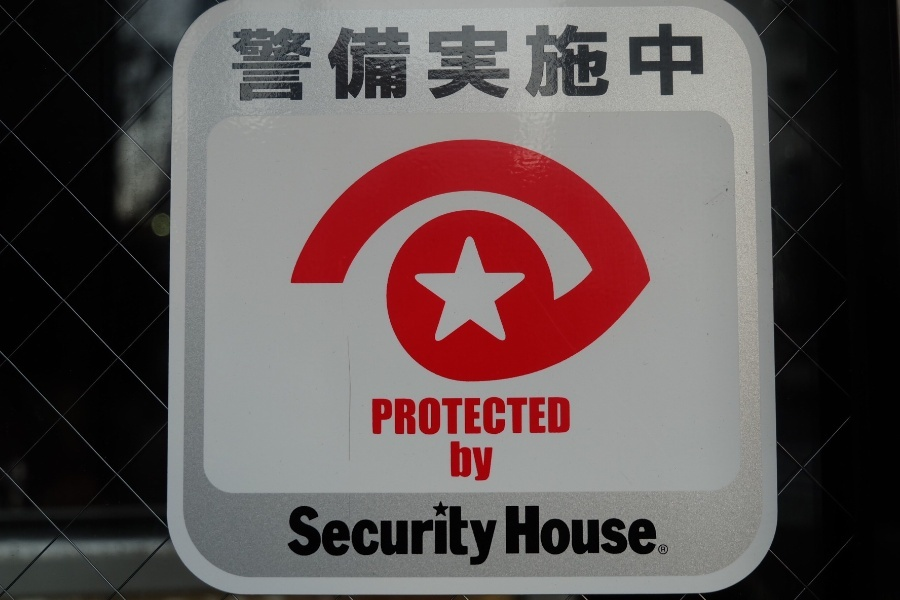text: (241, 24, 256, 103), (257, 24, 272, 103), (273, 24, 288, 103), (289, 24, 304, 103), (305, 24, 320, 103), (321, 24, 336, 103), (337, 24, 352, 103), (353, 24, 368, 103), (369, 24, 384, 103), (385, 24, 400, 103), (401, 24, 416, 103), (417, 24, 432, 103), (433, 24, 448, 103), (449, 24, 464, 103), (465, 24, 480, 103), (481, 24, 496, 103), (497, 24, 512, 103), (513, 24, 528, 103), (529, 24, 544, 103), (545, 24, 560, 103), (561, 24, 576, 103), (577, 24, 592, 103), (593, 24, 608, 103), (609, 24, 624, 103), (625, 24, 640, 103), (641, 24, 656, 103), (657, 24, 672, 103), (673, 24, 688, 103), (689, 24, 704, 103), (481, 506, 497, 568), (289, 506, 304, 568), (305, 506, 320, 568), (321, 506, 336, 568), (337, 506, 352, 568), (353, 506, 368, 568), (369, 506, 384, 568), (385, 506, 400, 568), (401, 506, 416, 568), (417, 506, 432, 568), (433, 506, 448, 568), (449, 506, 464, 568), (465, 506, 480, 568), (513, 506, 528, 555), (529, 506, 544, 555), (545, 506, 560, 555), (561, 506, 576, 555), (577, 506, 592, 555), (593, 506, 608, 555), (609, 506, 624, 555), (625, 506, 640, 555), (641, 506, 656, 555), (231, 24, 240, 103), (465, 441, 480, 482), (385, 397, 400, 436), (401, 397, 416, 436), (417, 397, 432, 436), (433, 397, 448, 436), (449, 397, 464, 436), (465, 397, 480, 436), (481, 397, 496, 436), (497, 397, 512, 436), (513, 397, 528, 436), (529, 397, 544, 436), (545, 397, 560, 436), (657, 506, 668, 555), (451, 441, 464, 482), (481, 441, 493, 482), (372, 397, 384, 436), (561, 397, 571, 436), (506, 506, 512, 555), (705, 24, 706, 103), (661, 547, 672, 554)
